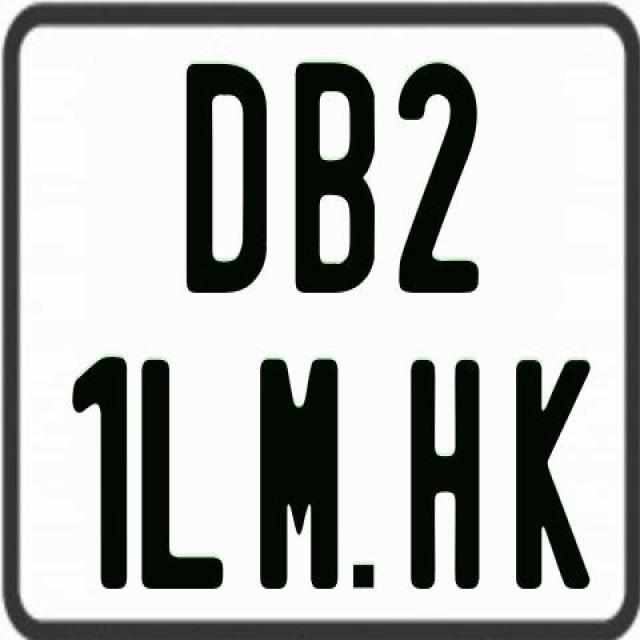1: (70, 354, 130, 594)
2: (396, 61, 480, 292)
B: (296, 58, 383, 296)
D: (183, 64, 270, 302)
H: (409, 360, 484, 589)
K: (512, 360, 595, 595)
L: (142, 355, 230, 584)
M: (258, 358, 338, 589)
